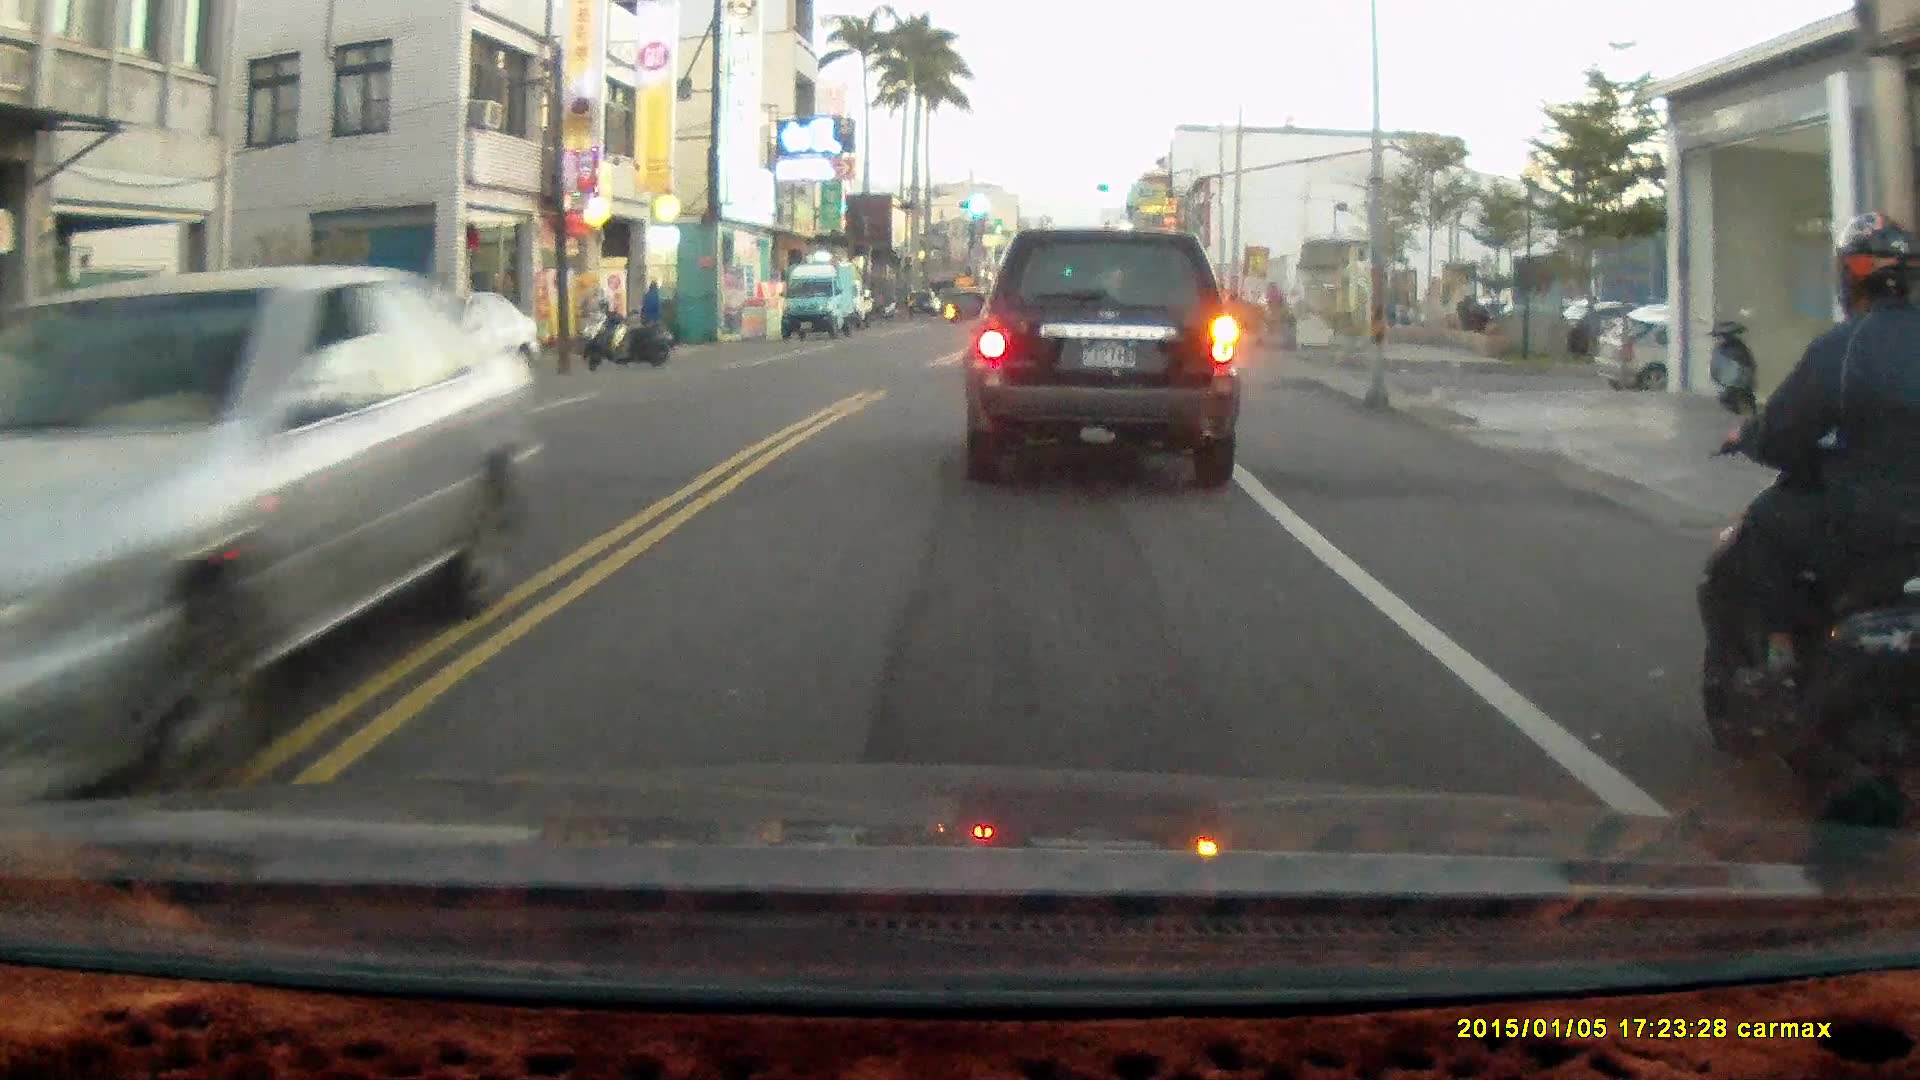pedestrian: (635, 274, 665, 350)
rider: (1689, 210, 1920, 840)
vehicle: (8, 266, 520, 801), (972, 223, 1248, 491), (1594, 317, 1811, 403), (780, 264, 867, 343)
